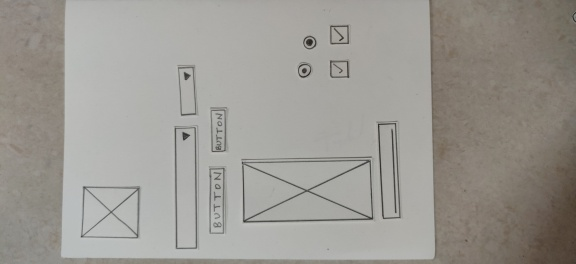button: (209, 166, 226, 234), (210, 109, 227, 154)
checkbox: (329, 22, 352, 47), (328, 59, 353, 79)
dropdown: (172, 127, 198, 250), (179, 65, 197, 116)
img: (240, 160, 373, 223), (81, 187, 141, 239)
radio: (300, 29, 320, 51), (296, 62, 314, 78)
text: (376, 120, 405, 220)
